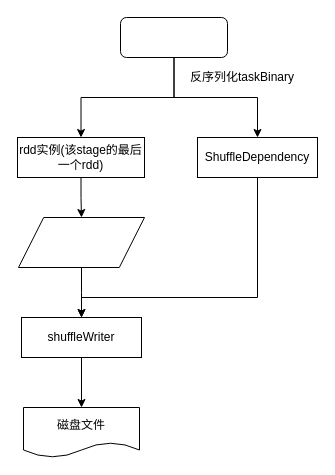
Image size: 335x475. Some labels were removed from this diagram. Here are the shapes that lost their labels. From the top down, the centre of each, then its label:
the point at 174,37: runTask
the point at 81,242: rdd.iterator
